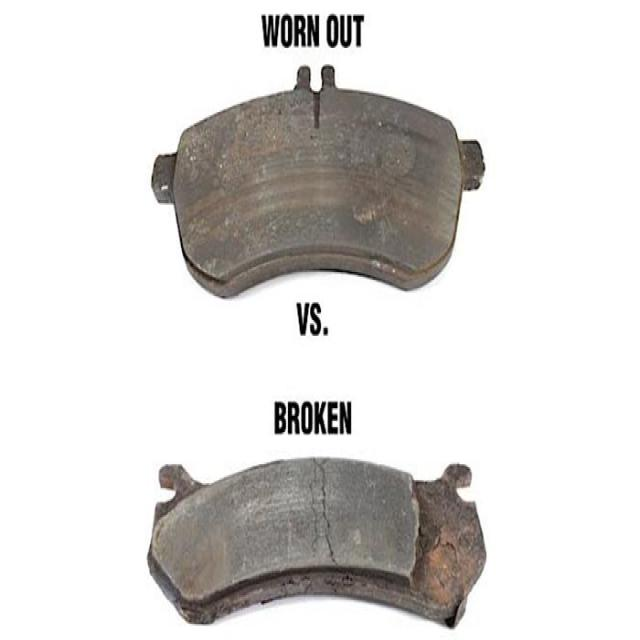brake_pad: (146, 54, 489, 301), (143, 450, 488, 635)
